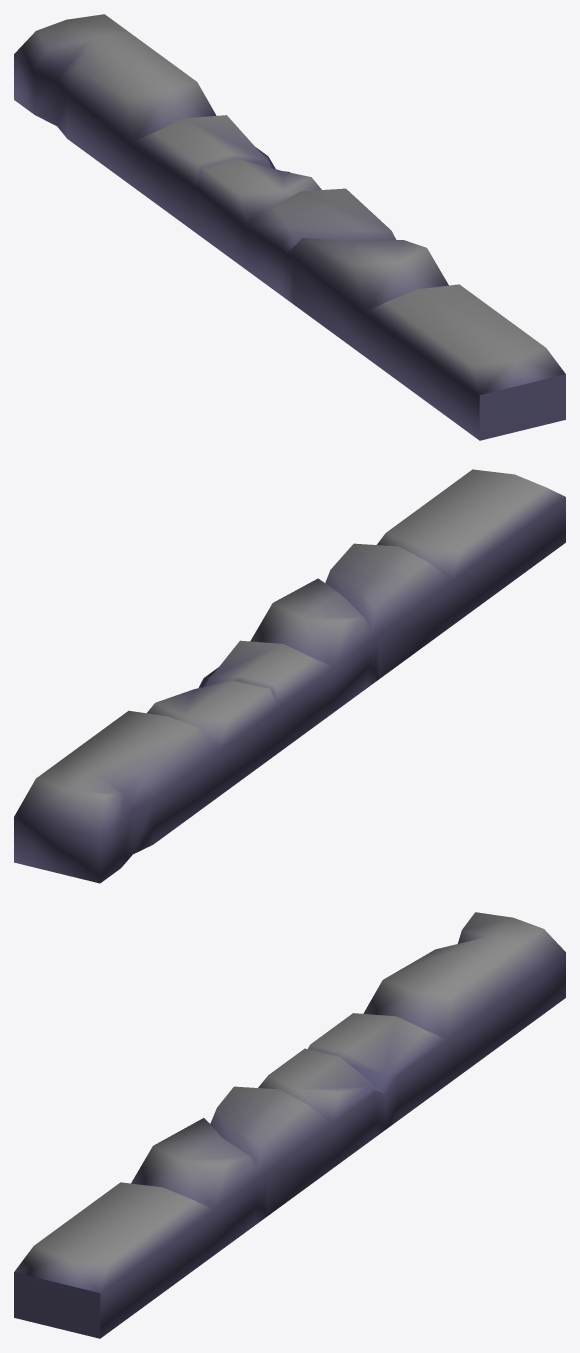
Rendered from stone_ledge.fbx.
3 views of the same model, one above another, from view 1: azimuth 30°, elevation 25°; view 2: azimuth 150°, elevation 25°; view 3: azimuth 330°, elevation 25° (orthographic).
Visible parts, largest first — view 1: stone_ledge; view 2: stone_ledge; view 3: stone_ledge.
Boxes of the visible parts, x1=… form: stone_ledge: x1=14, y1=14, x2=565, y2=440; stone_ledge: x1=14, y1=469, x2=565, y2=883; stone_ledge: x1=14, y1=912, x2=565, y2=1338.
Size of the model in its own units: 4.26 by 3.61 by 39.85.
